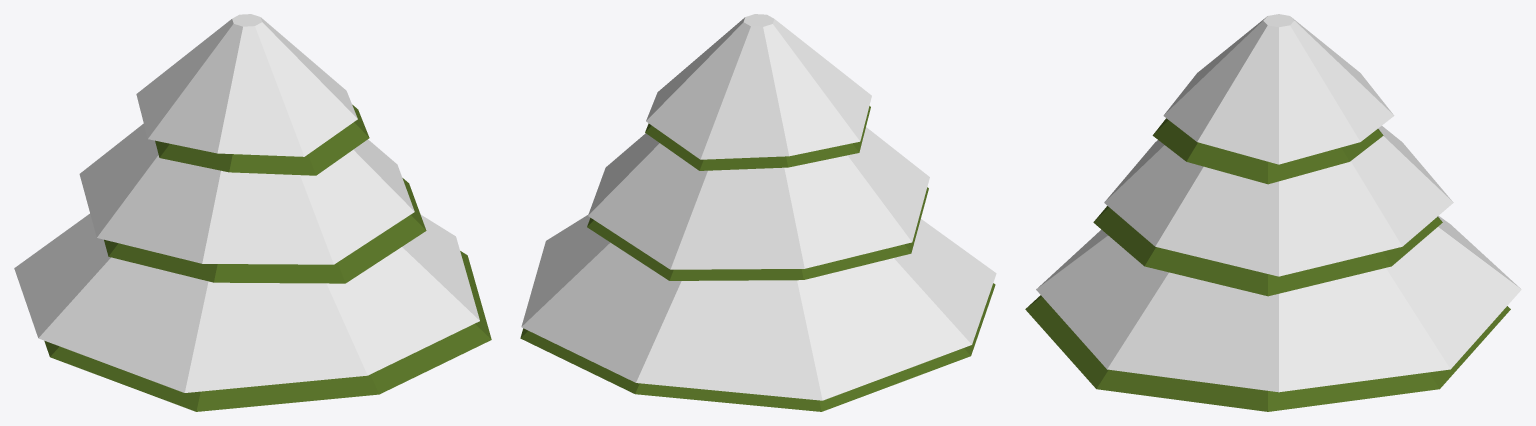
File: SwierkMalyZima.fbx
The picture shows the model from 3 angles, left to right: view 1: azimuth 30°, elevation 25°; view 2: azimuth 150°, elevation 25°; view 3: azimuth 270°, elevation 25°; orthographic projection. The views are drawn at different scales.
Visible parts, largest first — view 1: SwierkMalyZima; view 2: SwierkMalyZima; view 3: SwierkMalyZima.
Boxes of the visible parts, x1=… form: SwierkMalyZima: x1=14, y1=14, x2=491, y2=411; SwierkMalyZima: x1=520, y1=14, x2=996, y2=411; SwierkMalyZima: x1=1025, y1=14, x2=1521, y2=411.
Size of the model in its own units: 175 by 129 by 177.
